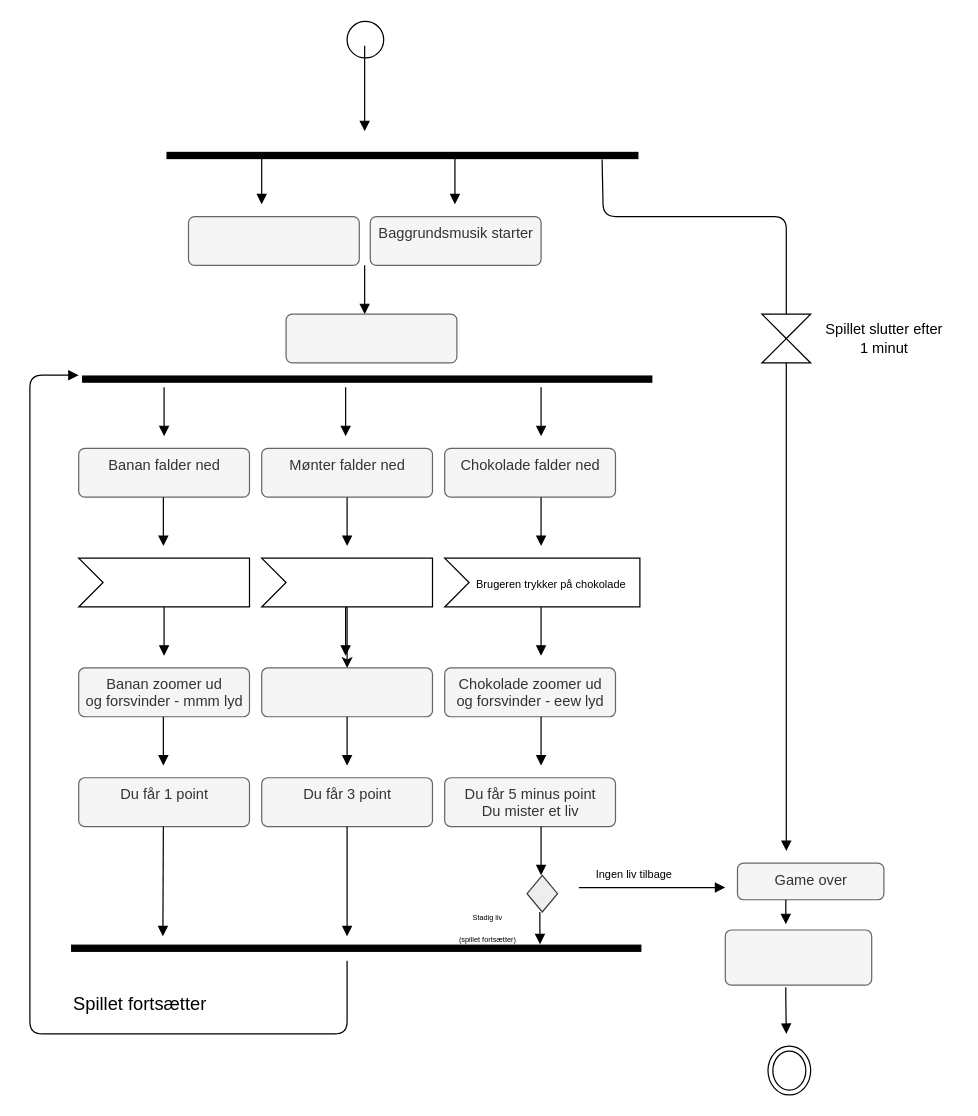
The diagram is 978 pixels wide and 1116 high, and some of its shapes have lost their labels. The centre of each missing label's shape, as x and y in pixels:
"Abe bevæger sig fra side til side" goes at [273,240].
"Brugeren trykker på banan" goes at [163,582].
"Brugeren trykker på mønt" goes at [346,582].
"Mønt zoomer ud og forsvinder - penge lyd" goes at [346,692].
"Slutskærm vises med point og feedback" goes at [798,957].
"Tid tæller ned" goes at [371,338].
